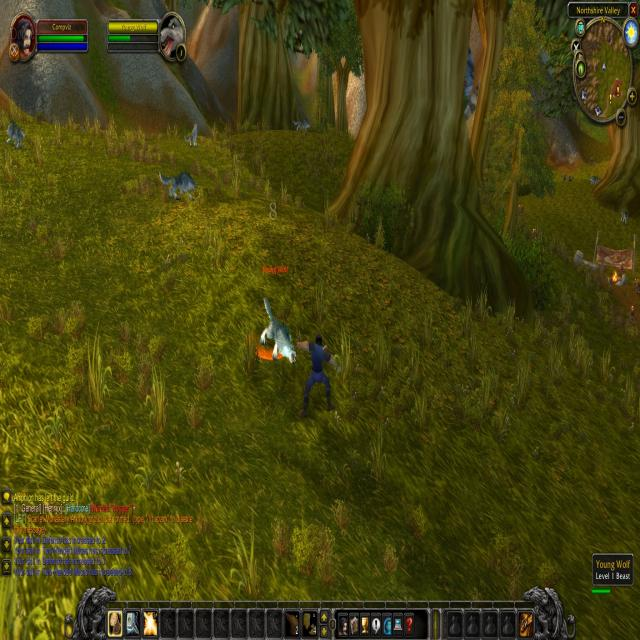wolf: (252, 285, 303, 374), (157, 163, 201, 206), (2, 113, 28, 154), (182, 115, 201, 151), (290, 113, 312, 137), (617, 202, 632, 231), (587, 171, 604, 191)
